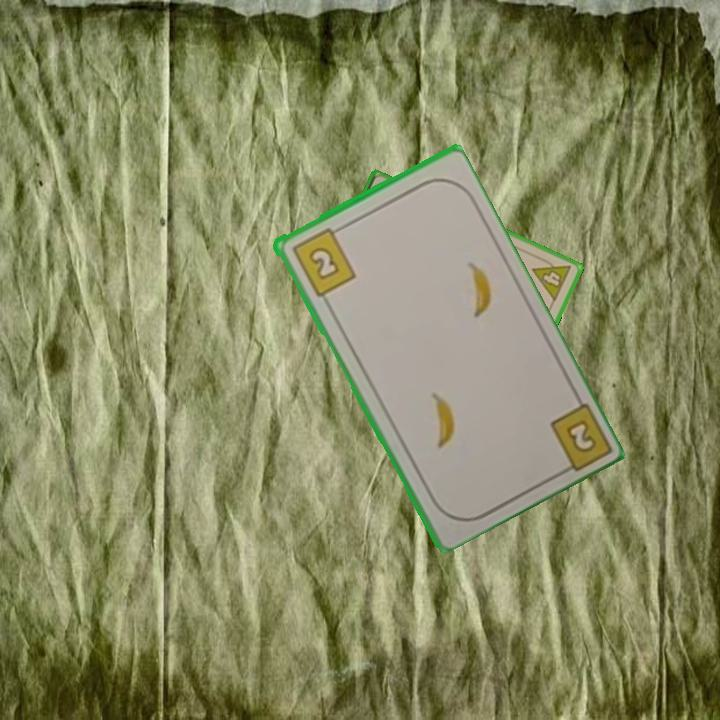2b: (545, 397, 612, 479), (288, 223, 359, 300)
4p: (529, 252, 574, 304)
